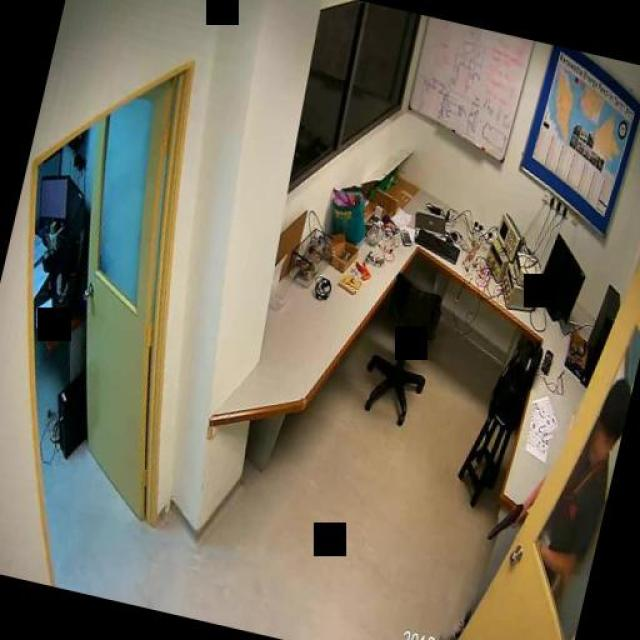gun: (486, 494, 526, 541)
